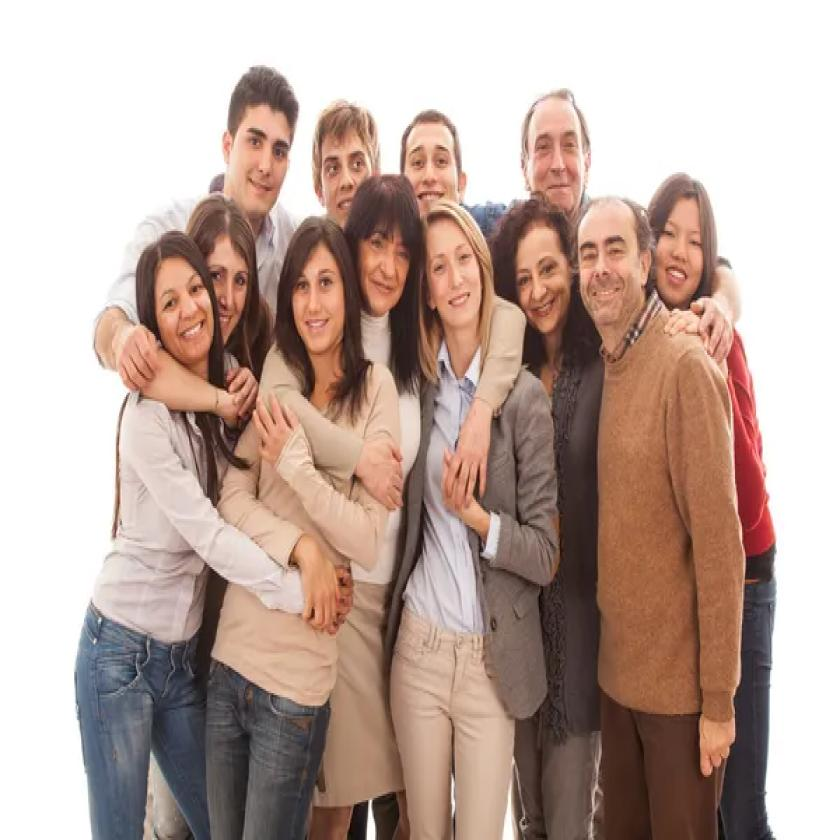Sin_casco: (277, 216, 355, 382), (218, 58, 293, 212), (658, 158, 728, 313), (140, 233, 210, 371), (195, 201, 255, 361), (422, 212, 498, 336), (577, 196, 644, 333), (518, 65, 588, 196), (504, 189, 567, 329), (359, 189, 417, 328), (403, 109, 461, 210), (313, 107, 370, 203)
